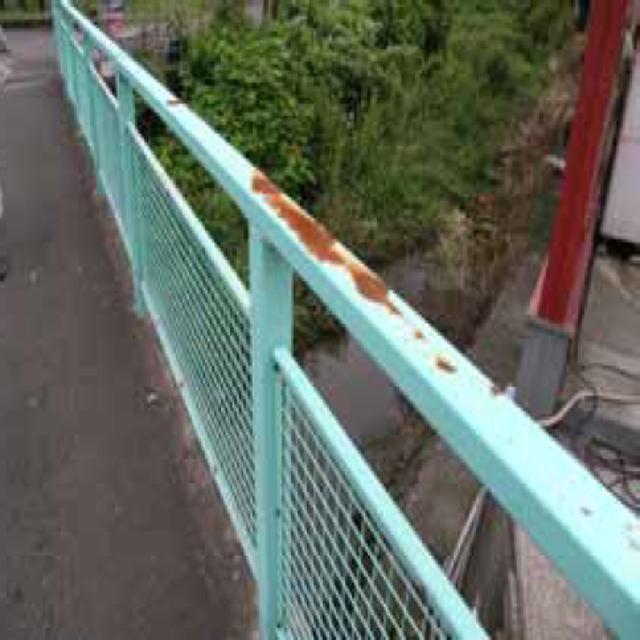corrosion: (243, 159, 413, 324)
